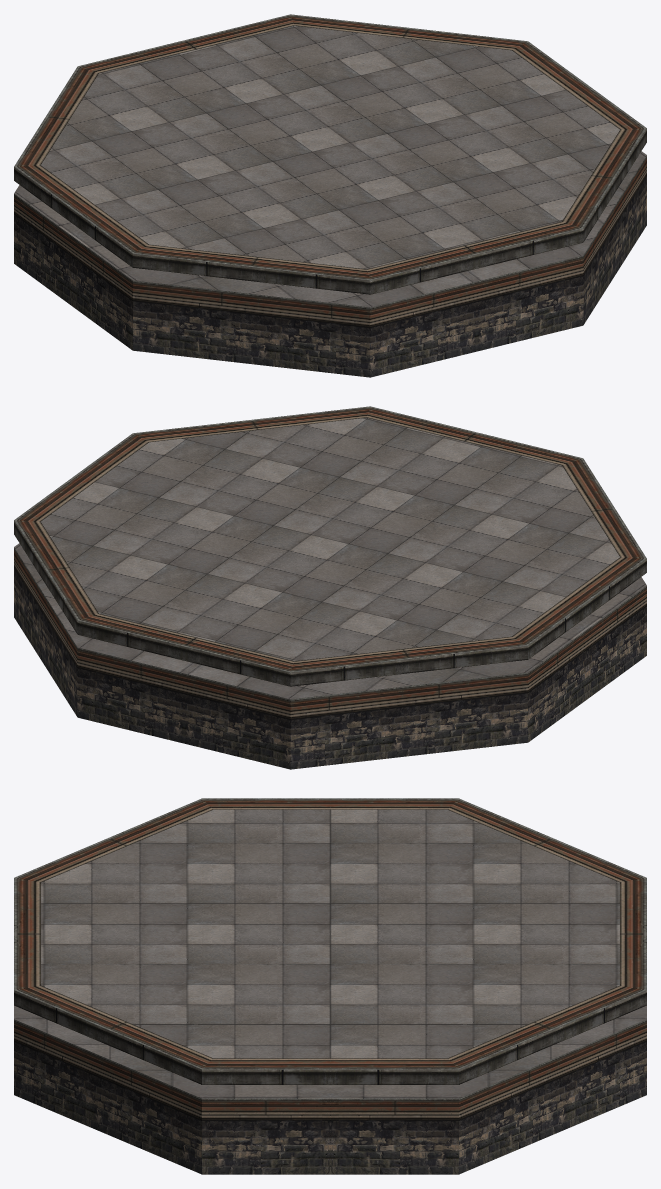
Rendered from auction_square01.FBX.
The picture shows the model from 3 angles, top to bottom: view 1: azimuth 30°, elevation 25°; view 2: azimuth 150°, elevation 25°; view 3: azimuth 270°, elevation 25°; orthographic projection. The views are drawn at different scales.
Visible parts, largest first — view 1: auction_square01; view 2: auction_square01; view 3: auction_square01.
Part boxes in pixels (x1,y1,x2,y2): auction_square01: (14, 14, 646, 377); auction_square01: (14, 406, 646, 769); auction_square01: (14, 798, 646, 1174).
Size of the model in its own units: 3427 by 618 by 3380.
Materials: 2 (2 with a texture image).
